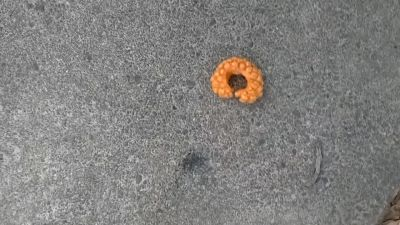eggs: (208, 55, 268, 105)
